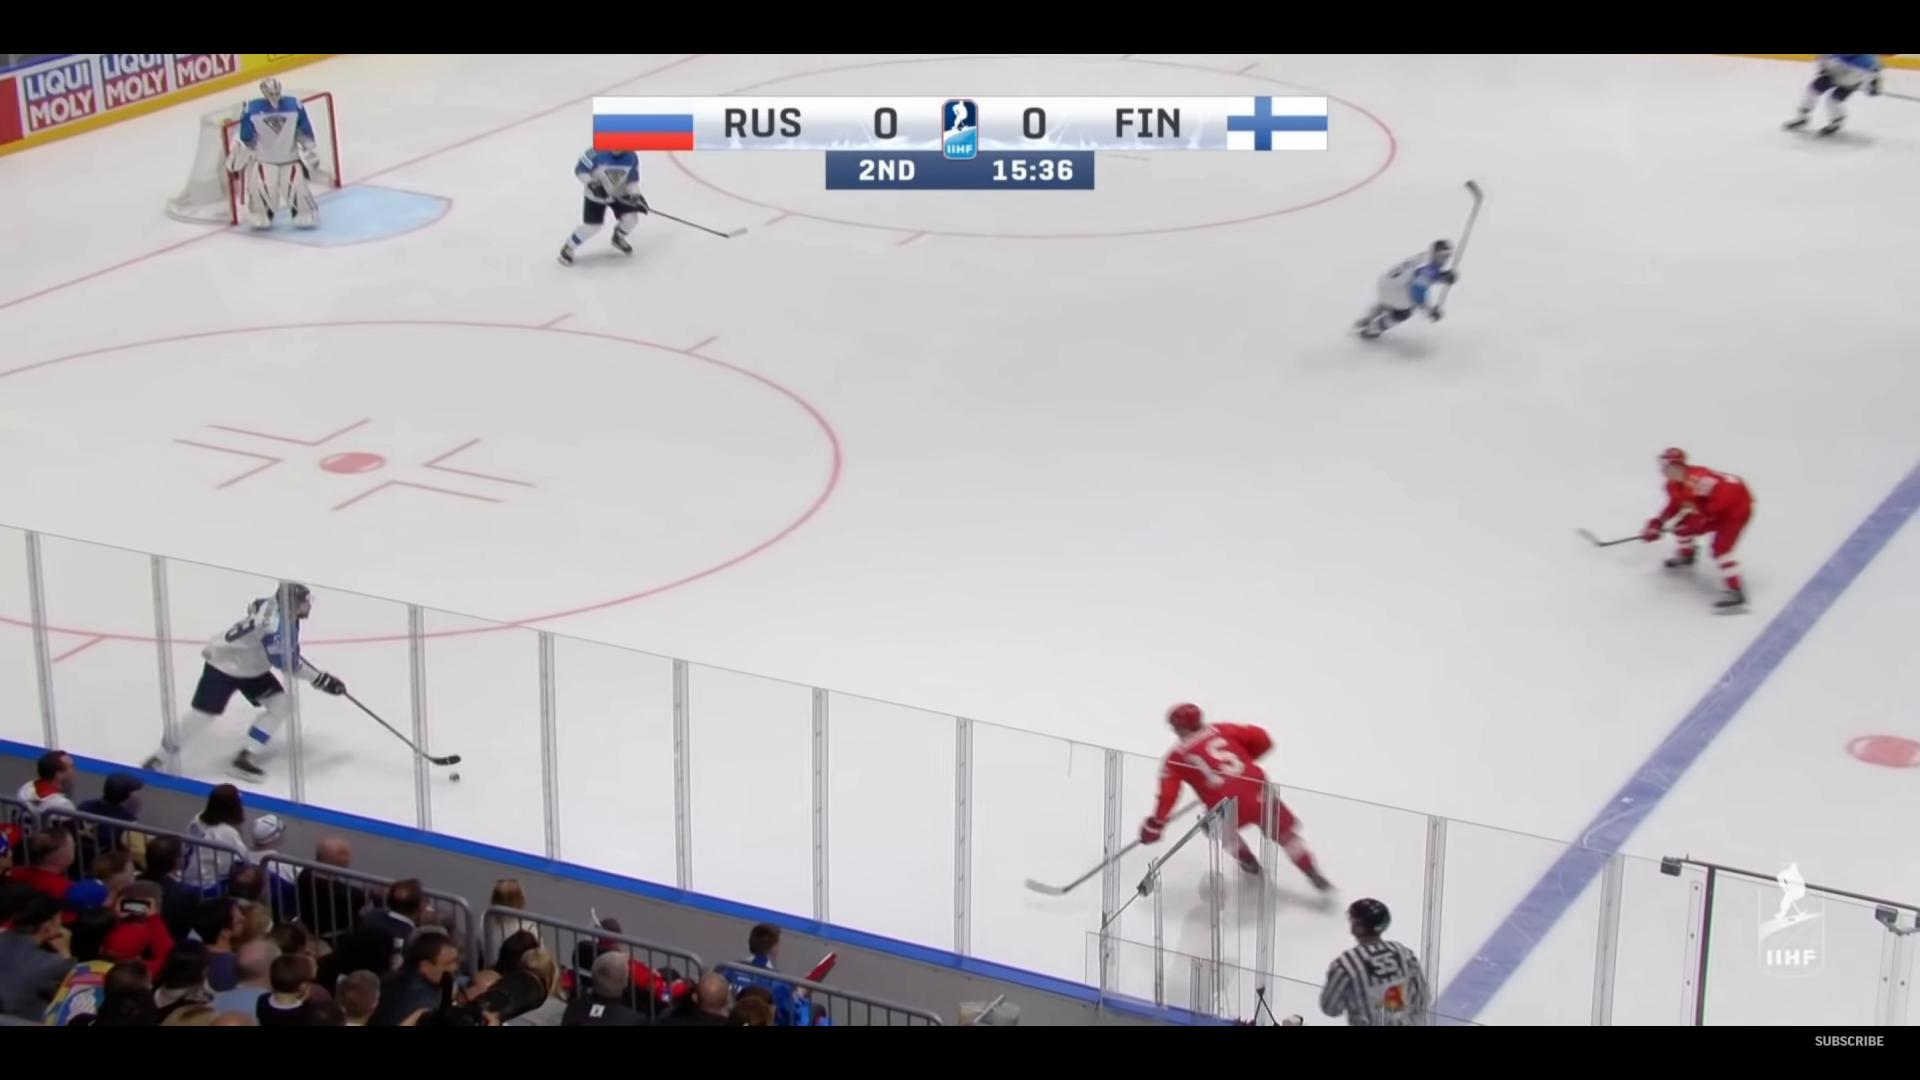puck: (448, 774, 459, 780)
